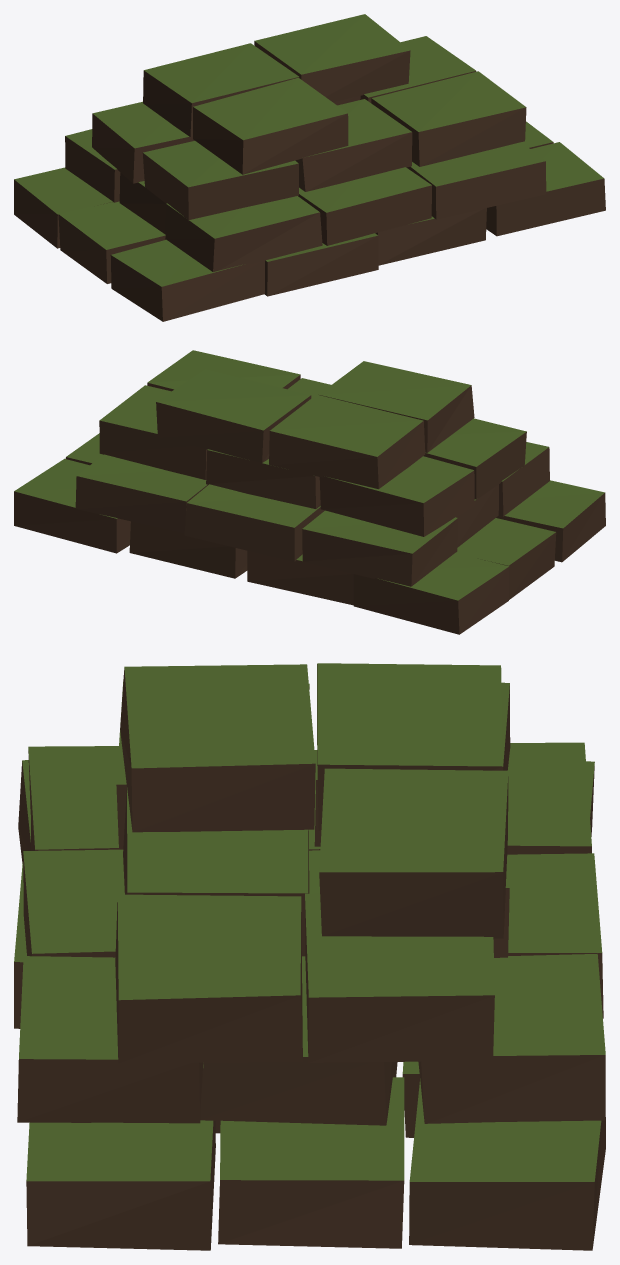
File: c5_toervstak.glb
The picture shows the model from 3 angles, top to bottom: view 1: azimuth 30°, elevation 25°; view 2: azimuth 150°, elevation 25°; view 3: azimuth 270°, elevation 25°; orthographic projection. The views are drawn at different scales.
Visible parts, largest first — view 1: C5_stak_af_graestoerv; view 2: C5_stak_af_graestoerv; view 3: C5_stak_af_graestoerv.
Boxes of the visible parts, box(x1,y1,x2,y2) form: C5_stak_af_graestoerv: box(14, 14, 605, 321); C5_stak_af_graestoerv: box(14, 350, 605, 634); C5_stak_af_graestoerv: box(14, 663, 605, 1250).
Size of the model in its own units: 2.09 by 0.6093 by 1.23.
